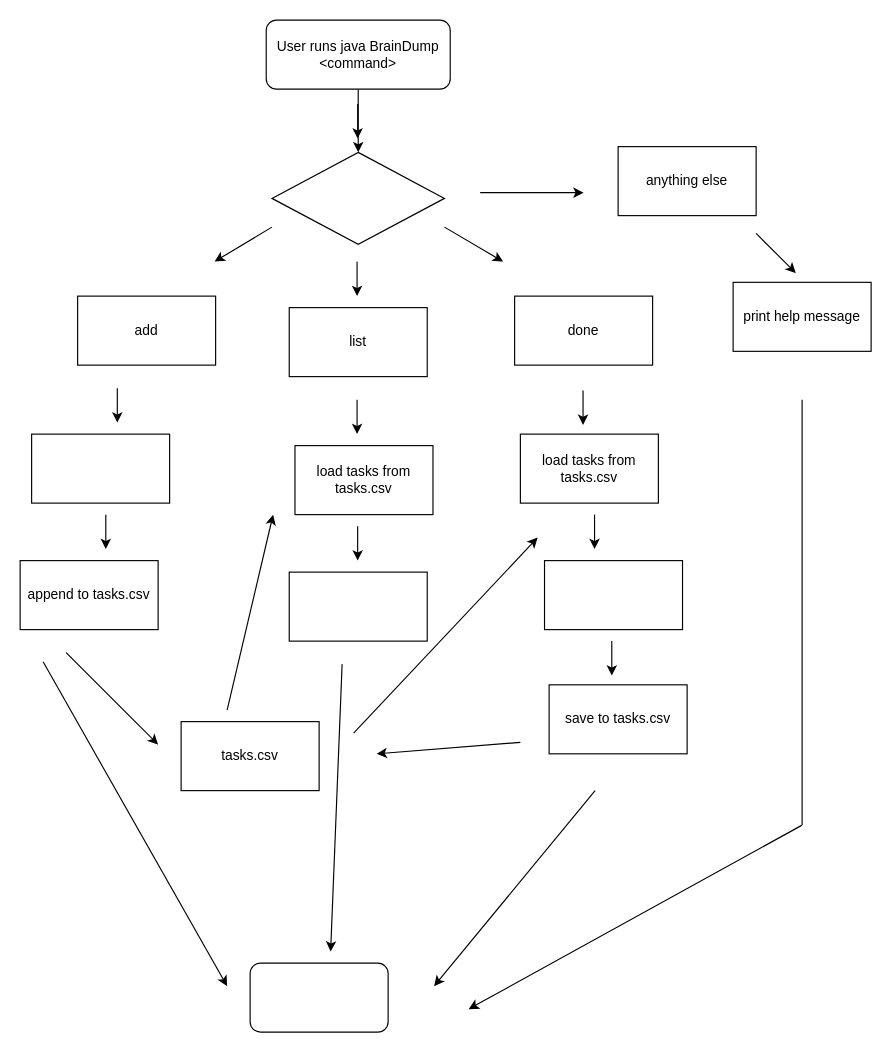
The diagram is 891 pixels wide and 1052 high, and some of its shapes have lost their labels. Here are the shapes that lost their labels. From the top down, the centre of each, then its label:
At (x=357, y=197): "Which command?".
At (x=100, y=468): "create new task".
At (x=357, y=606): "print dashboard".
At (x=613, y=594): "mark task done".
At (x=318, y=997): "program ends".
